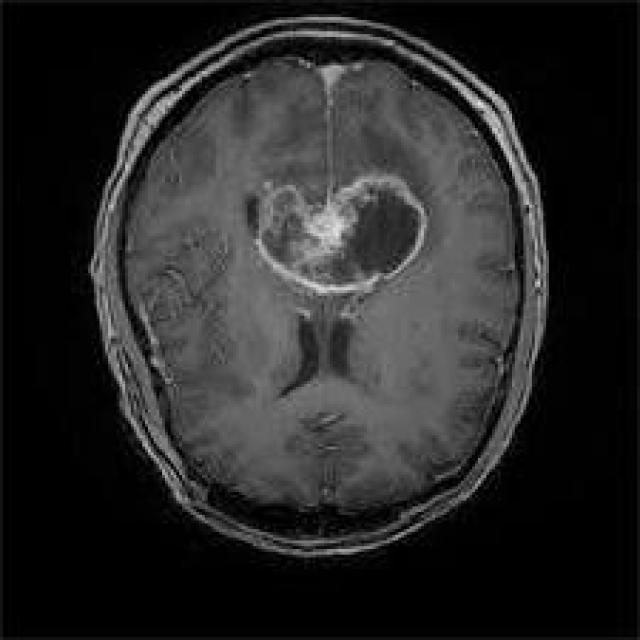Tumor-Cell: (230, 175, 454, 307)
